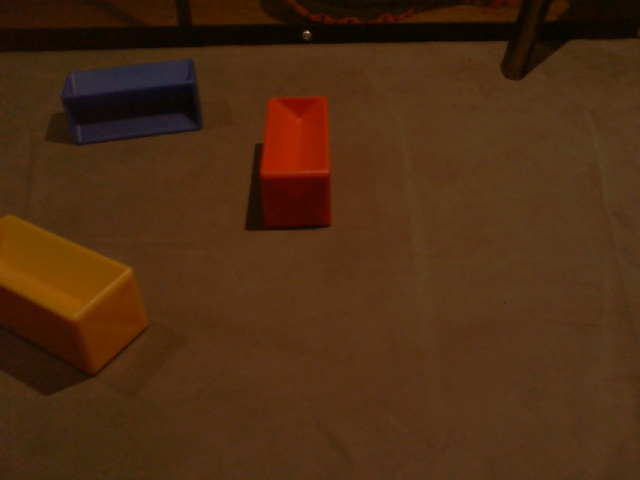BlueSample: (60, 58, 204, 147)
RedSample: (258, 92, 334, 230)
YellowSample: (1, 209, 150, 375)
